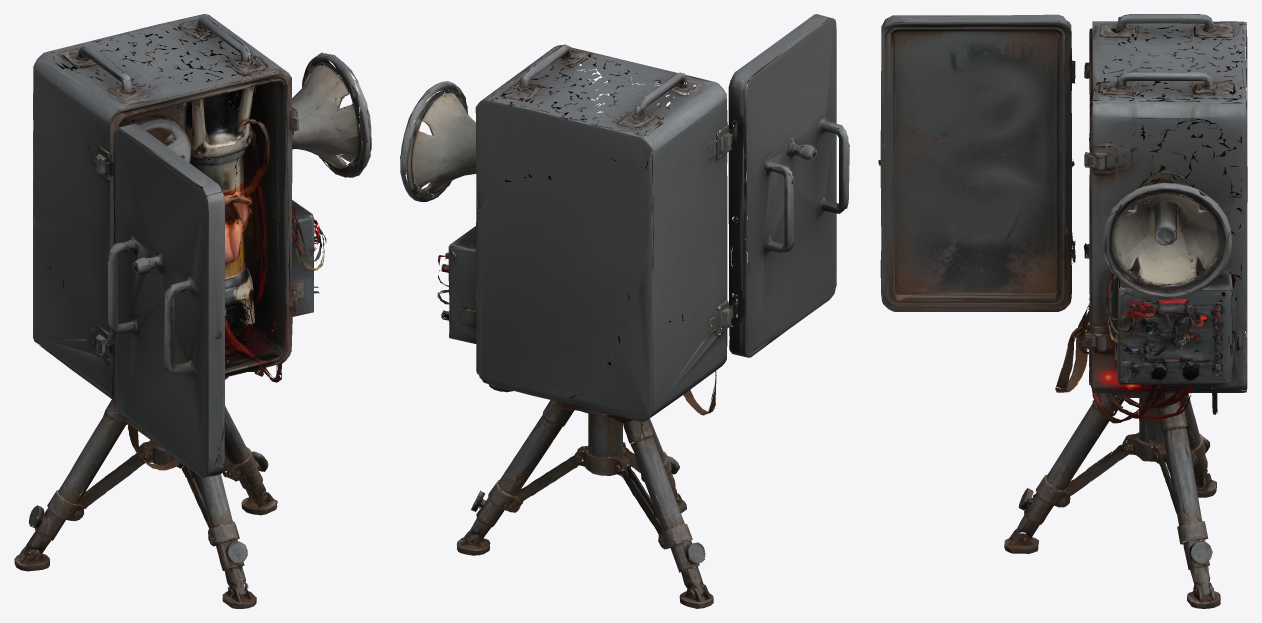
Rendered from tina_vocal_mimic_synthesizer.glb.
The picture shows the model from 3 angles, left to right: view 1: azimuth 30°, elevation 25°; view 2: azimuth 150°, elevation 25°; view 3: azimuth 270°, elevation 25°; orthographic projection. The views are drawn at different scales.
Parts seen in each view (by area): view 1: node_0; view 2: node_0; view 3: node_0.
Boxes of the visible parts, box(x1,y1,x2,y2) form: node_0: box(14, 14, 371, 608); node_0: box(400, 14, 849, 608); node_0: box(878, 14, 1247, 608).
Bounding box in the file's own units: 0.594 × 0.9324 × 0.6194.
1 material, 1 textured.
